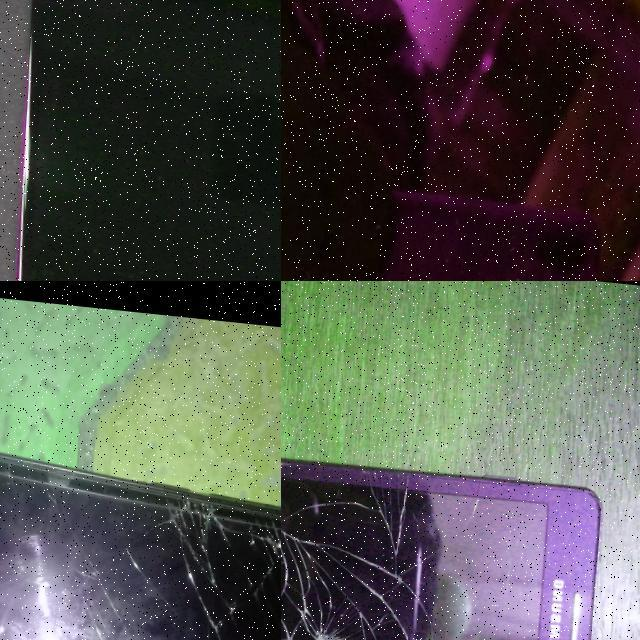scratch: (245, 133, 281, 262)
screen crack: (281, 434, 503, 640), (158, 474, 281, 640)
